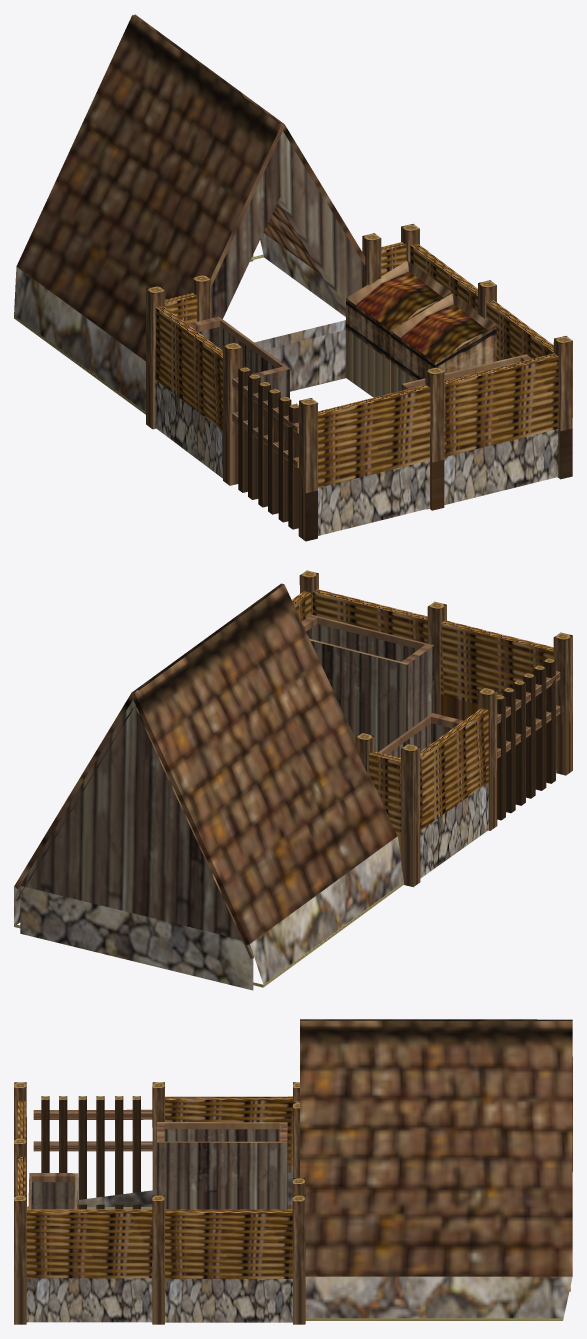
The model's file is corral.dae.
The picture shows the model from 3 angles, top to bottom: view 1: azimuth 30°, elevation 25°; view 2: azimuth 150°, elevation 25°; view 3: azimuth 270°, elevation 25°; orthographic projection. The views are drawn at different scales.
Parts seen in each view (by area): view 1: corral.002; view 2: corral.002; view 3: corral.002.
Part boxes in pixels (x1=…): corral.002: x1=14, y1=14, x2=572, y2=541; corral.002: x1=14, y1=570, x2=572, y2=990; corral.002: x1=14, y1=1019, x2=572, y2=1324.
Size of the model in its own units: 9.14 by 18.17 by 8.9.
